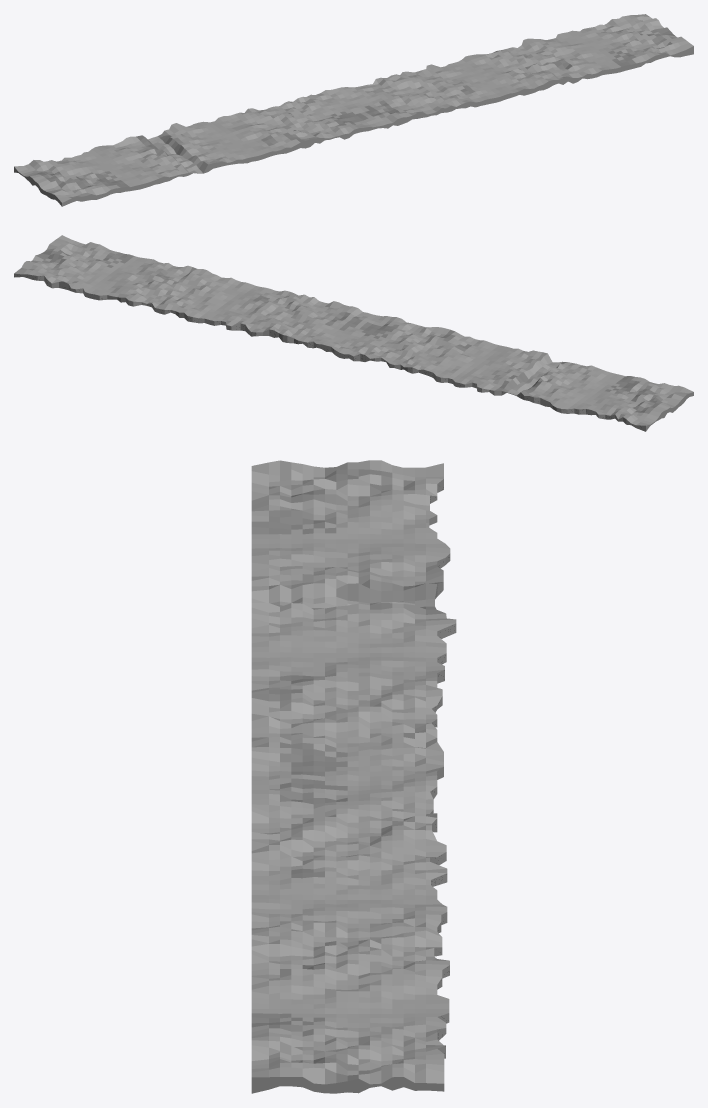
Rendered from near_wall_template.fbx.
3 views of the same model, one above another, from view 1: azimuth 30°, elevation 25°; view 2: azimuth 150°, elevation 25°; view 3: azimuth 270°, elevation 25° (orthographic). The views are drawn at different scales.
Parts seen in each view (by area): view 1: Grid; view 2: Grid; view 3: Grid.
Boxes of the visible parts, left/top/right/bottom form: Grid: left=14, top=14, right=693, bottom=206; Grid: left=14, top=235, right=693, bottom=431; Grid: left=251, top=460, right=456, bottom=1093.
Size of the model in its own units: 16.24 by 0.2177 by 2.28.
Materials: 2 (2 with a texture image).
